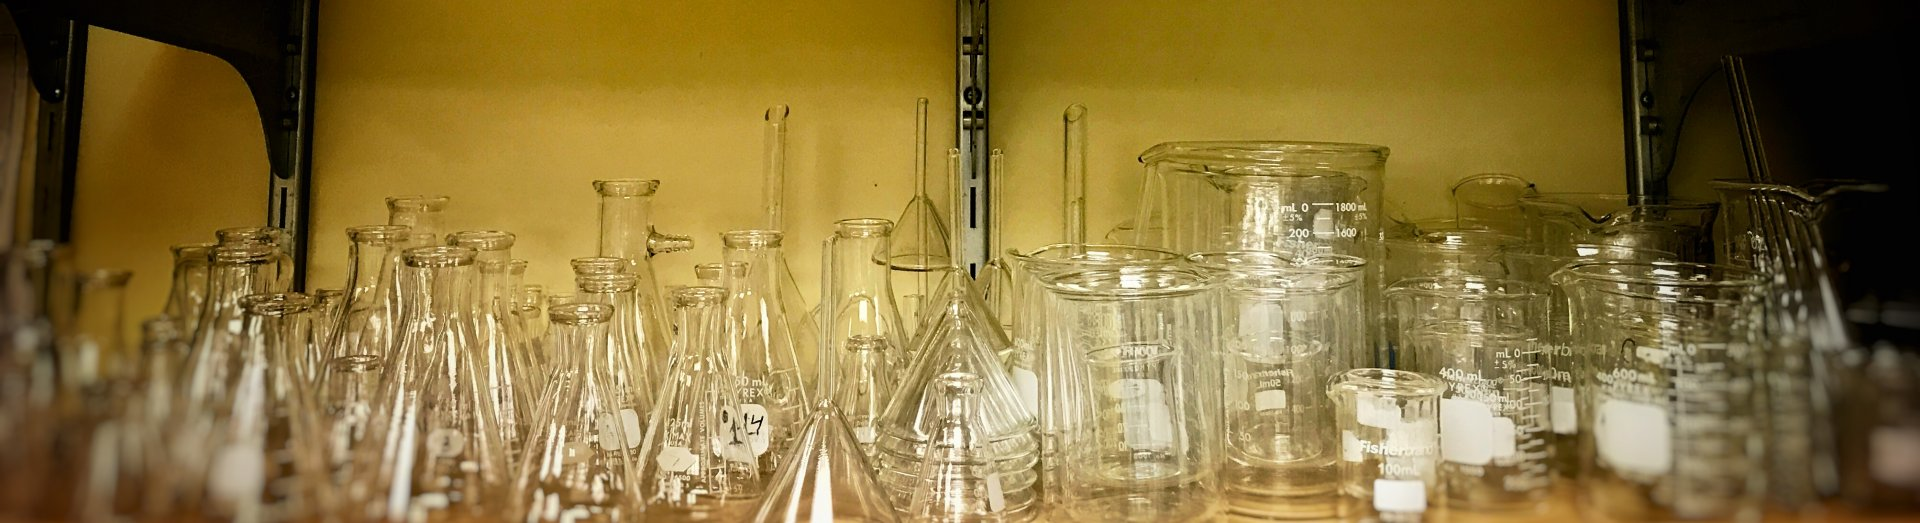Nonrec_Glass: (105, 75, 1889, 522), (1140, 122, 1463, 503), (347, 244, 523, 518), (538, 303, 644, 513)
